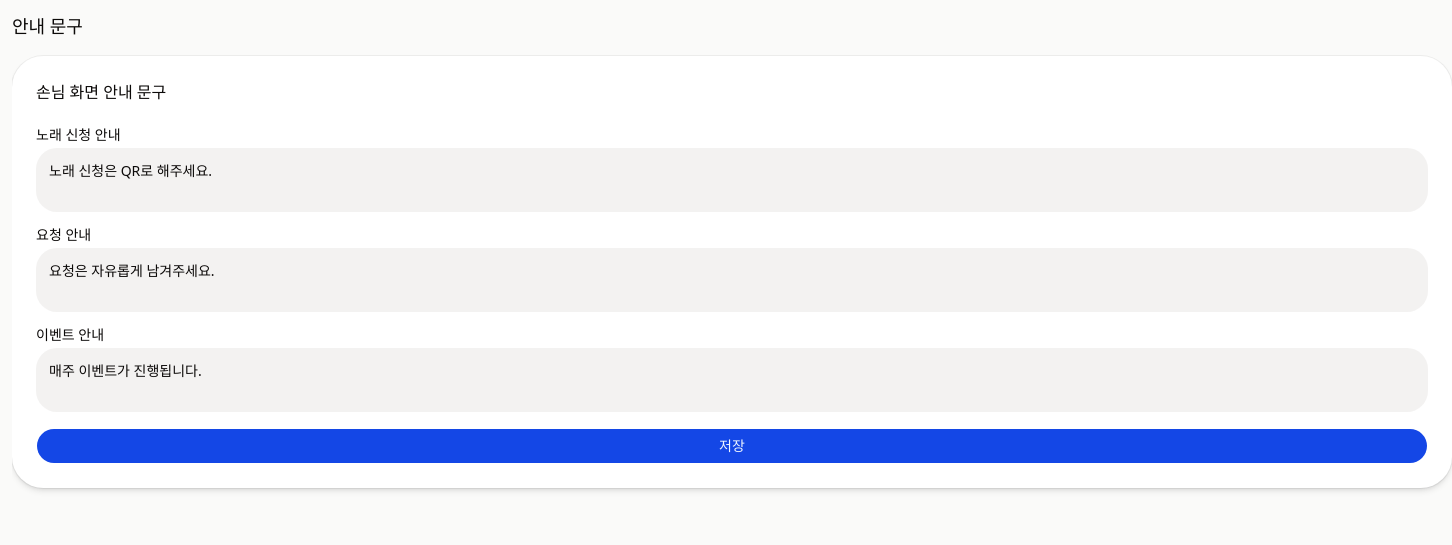
Test: StoreCopyPage › shows a success message and syncs to the server response once the save succeeds
The width and height of the screenshot is (1452, 545).
Replace the text in the text box labelled "이벤트 안내" with "새로운 이벤트 안내": point(732, 380) [36, 348, 1428, 412]
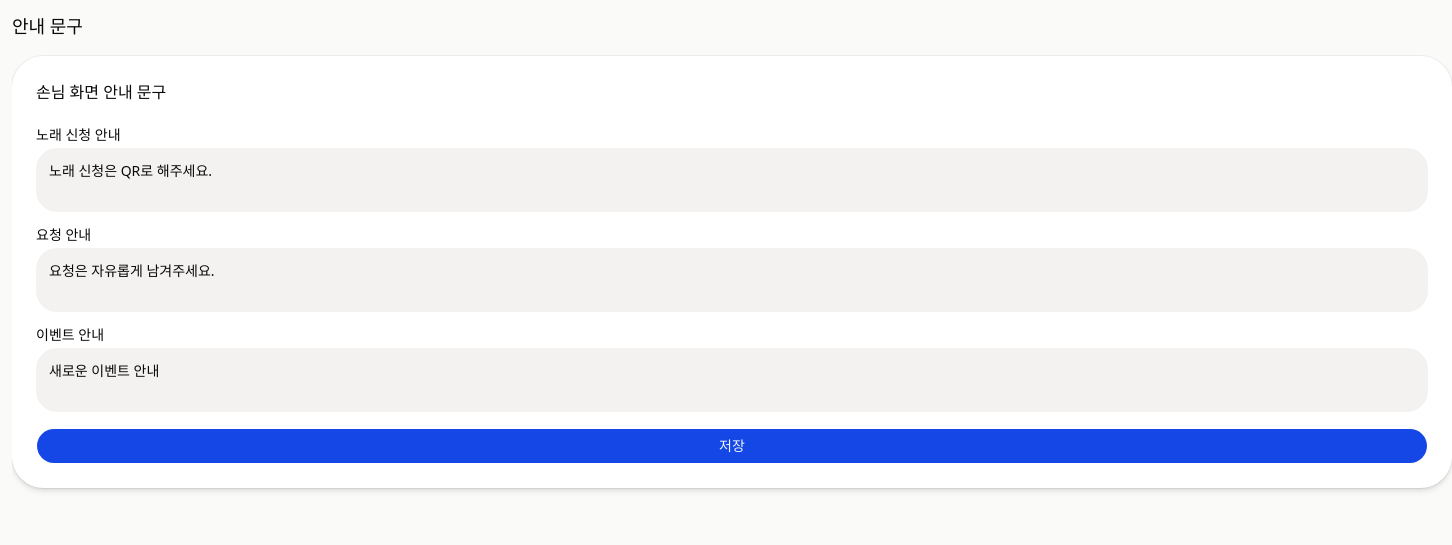
Click the button "저장": point(732, 446) [36, 428, 1428, 464]
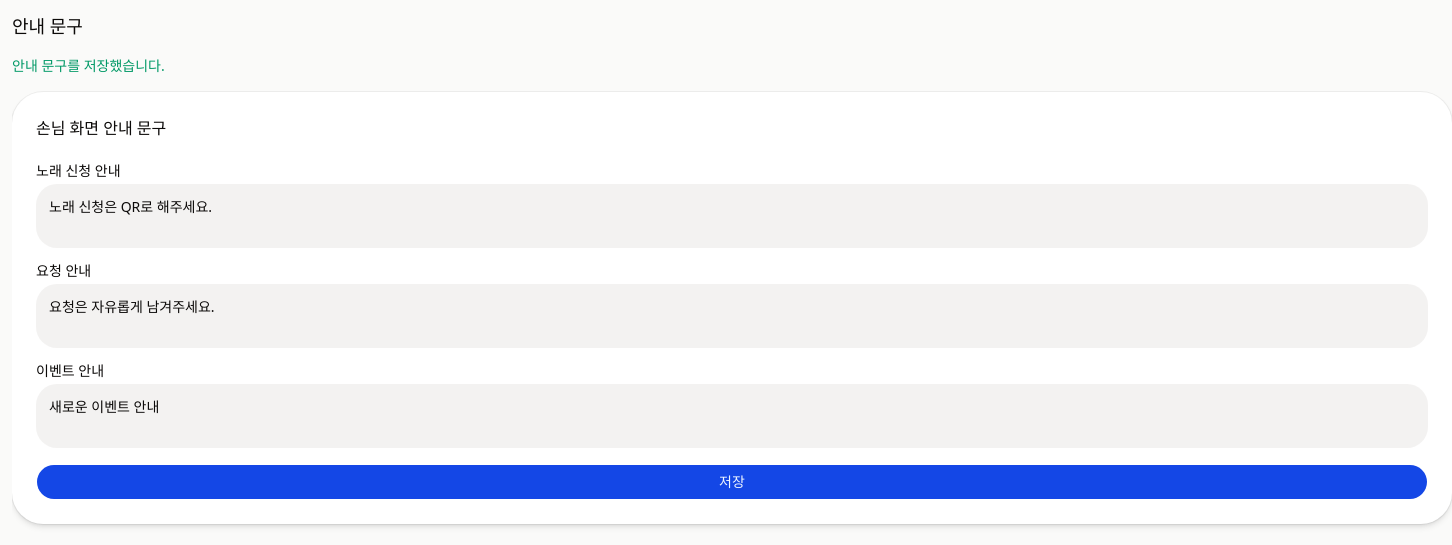
Check: the message "안내 문구를 저장했습니다." is shown, box [12, 56, 165, 75]
